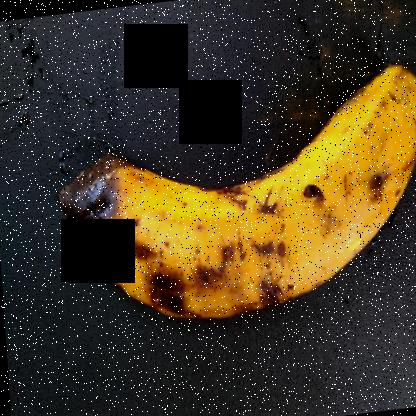overripe: (179, 53, 416, 349)
rotten: (46, 150, 224, 343)
